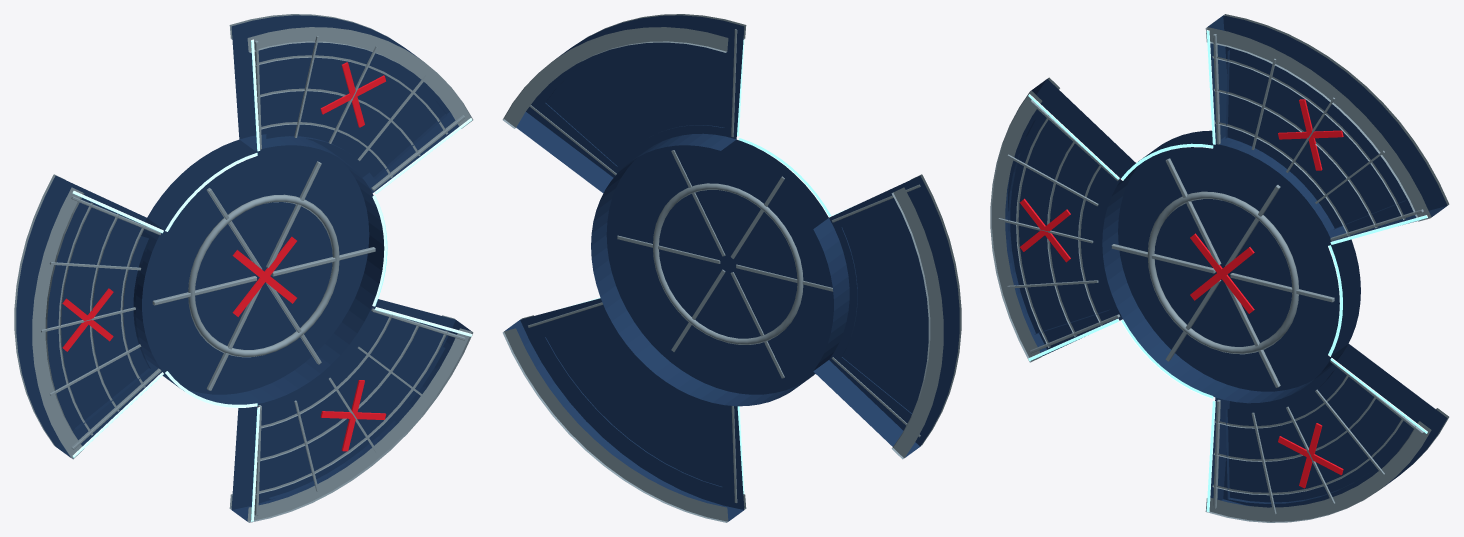
File: foundry-panel-fun3-high.glb
The picture shows the model from 3 angles, left to right: view 1: azimuth 30°, elevation 25°; view 2: azimuth 150°, elevation 25°; view 3: azimuth 330°, elevation 25°; orthographic projection.
Visible parts, largest first — view 1: RENDER_PANEL_SHELL, RENDER_PANEL_FRAME, RENDER_PANEL_HAZARD, RENDER_PANEL_SIGNAL; view 2: RENDER_PANEL_SHELL, RENDER_PANEL_FRAME, RENDER_PANEL_SIGNAL; view 3: RENDER_PANEL_SHELL, RENDER_PANEL_FRAME, RENDER_PANEL_HAZARD, RENDER_PANEL_SIGNAL.
Boxes of the visible parts, x1=… form: RENDER_PANEL_SHELL: x1=16, y1=15, x2=471, y2=521; RENDER_PANEL_FRAME: x1=14, y1=14, x2=473, y2=522; RENDER_PANEL_HAZARD: x1=62, y1=62, x2=386, y2=451; RENDER_PANEL_SIGNAL: x1=72, y1=39, x2=472, y2=521; RENDER_PANEL_SHELL: x1=504, y1=15, x2=959, y2=521; RENDER_PANEL_FRAME: x1=502, y1=14, x2=961, y2=522; RENDER_PANEL_SIGNAL: x1=564, y1=39, x2=853, y2=494; RENDER_PANEL_SHELL: x1=1005, y1=15, x2=1447, y2=507; RENDER_PANEL_FRAME: x1=990, y1=14, x2=1449, y2=522; RENDER_PANEL_HAZARD: x1=1020, y1=99, x2=1343, y2=488; RENDER_PANEL_SIGNAL: x1=1028, y1=30, x2=1427, y2=512.
Size of what is drawn, in the model's own units: 38.91 by 41 by 3.09.
